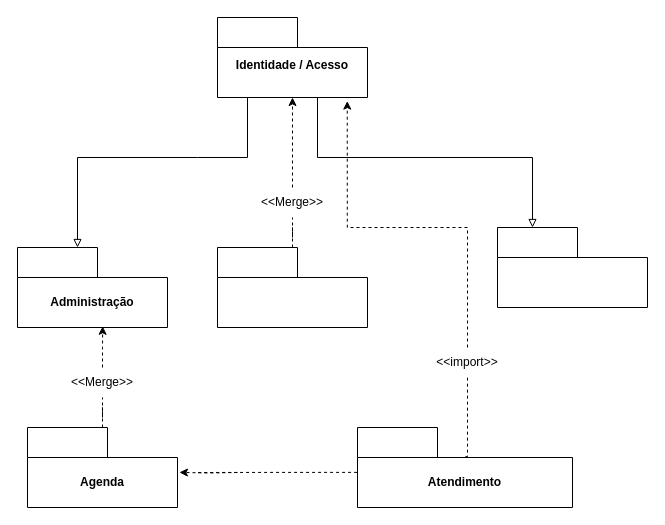
Some shapes in this 665 by 525 pixel diagram are drawn without their labels. Each missing label, with the centre of its shape:
Cliente / Paciente: the point at 572,267
Psicologo: the point at 292,287
